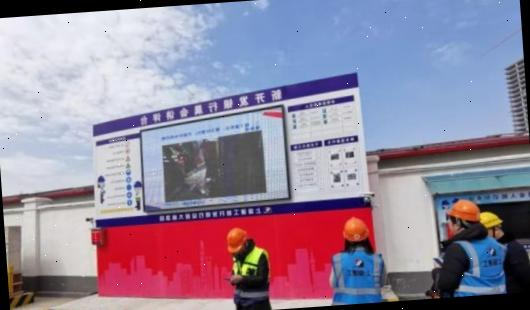helmet: (444, 198, 479, 224), (342, 216, 371, 243), (226, 227, 249, 256), (479, 210, 505, 230)
wear: (445, 236, 505, 298), (330, 250, 384, 306), (230, 248, 270, 300)
